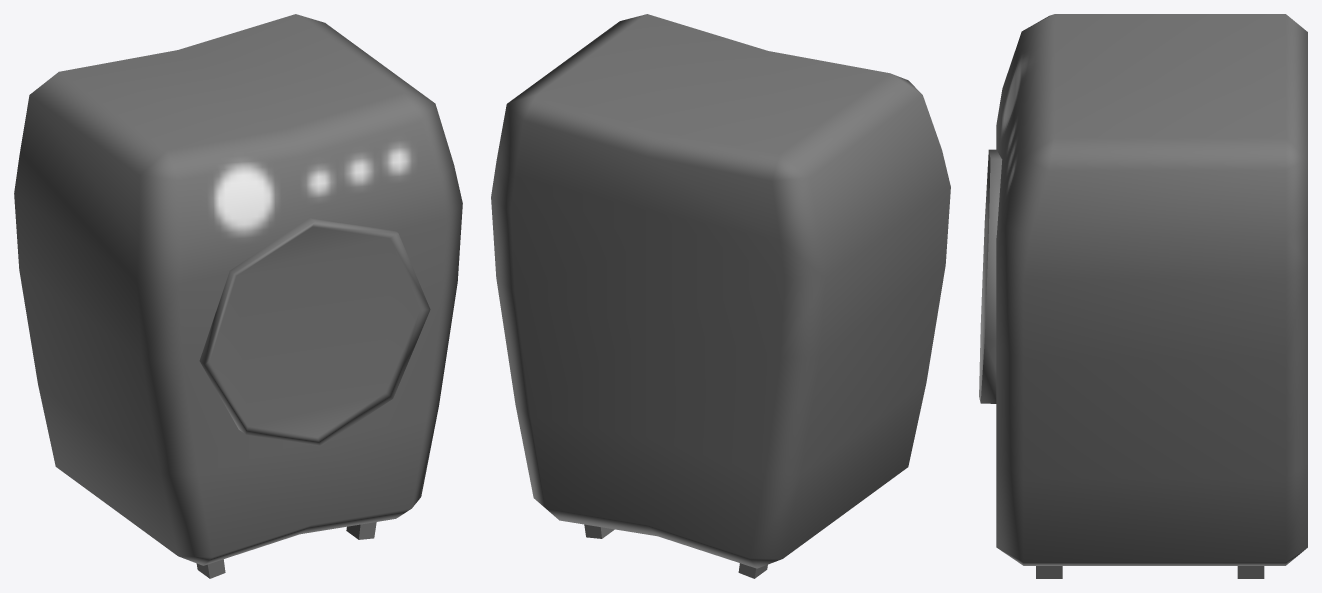
The model's file is dryer.fbx.
The picture shows the model from 3 angles, left to right: view 1: azimuth 30°, elevation 25°; view 2: azimuth 150°, elevation 25°; view 3: azimuth 270°, elevation 25°; orthographic projection. The views are drawn at different scales.
Parts seen in each view (by area): view 1: dryer; view 2: dryer; view 3: dryer.
Boxes of the visible parts, left/top/right/bottom form: dryer: left=14, top=14, right=462, bottom=578; dryer: left=491, top=14, right=950, bottom=578; dryer: left=979, top=14, right=1307, bottom=578.
Size of the model in its own units: 238 by 300 by 194.
